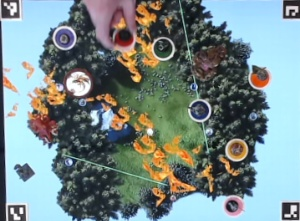blue: (188, 97, 213, 121)
green: (151, 35, 176, 62)
orange: (247, 65, 271, 90)
pink: (216, 192, 248, 216)
red: (110, 25, 137, 52)
violet: (52, 25, 77, 51)
yellow: (223, 135, 249, 163)
